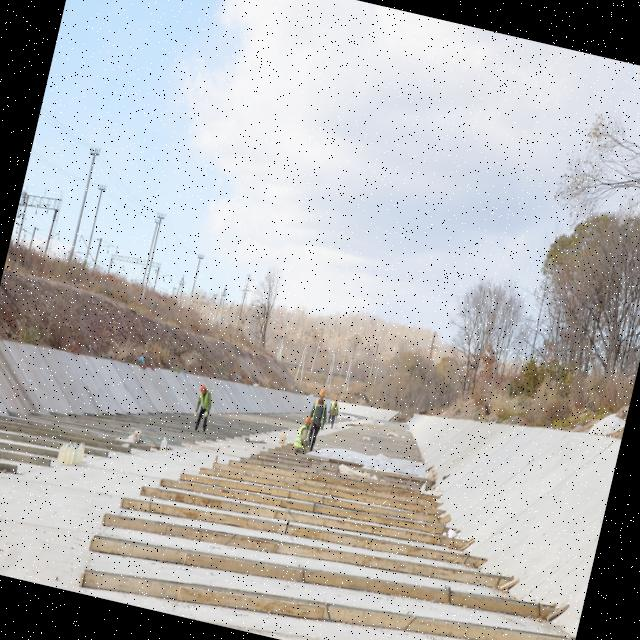Helmet: (319, 389, 328, 400), (199, 385, 207, 395), (305, 417, 313, 426), (335, 399, 339, 405)
Jacket: (311, 399, 328, 427), (296, 425, 310, 449), (199, 390, 212, 411), (332, 404, 339, 416)
